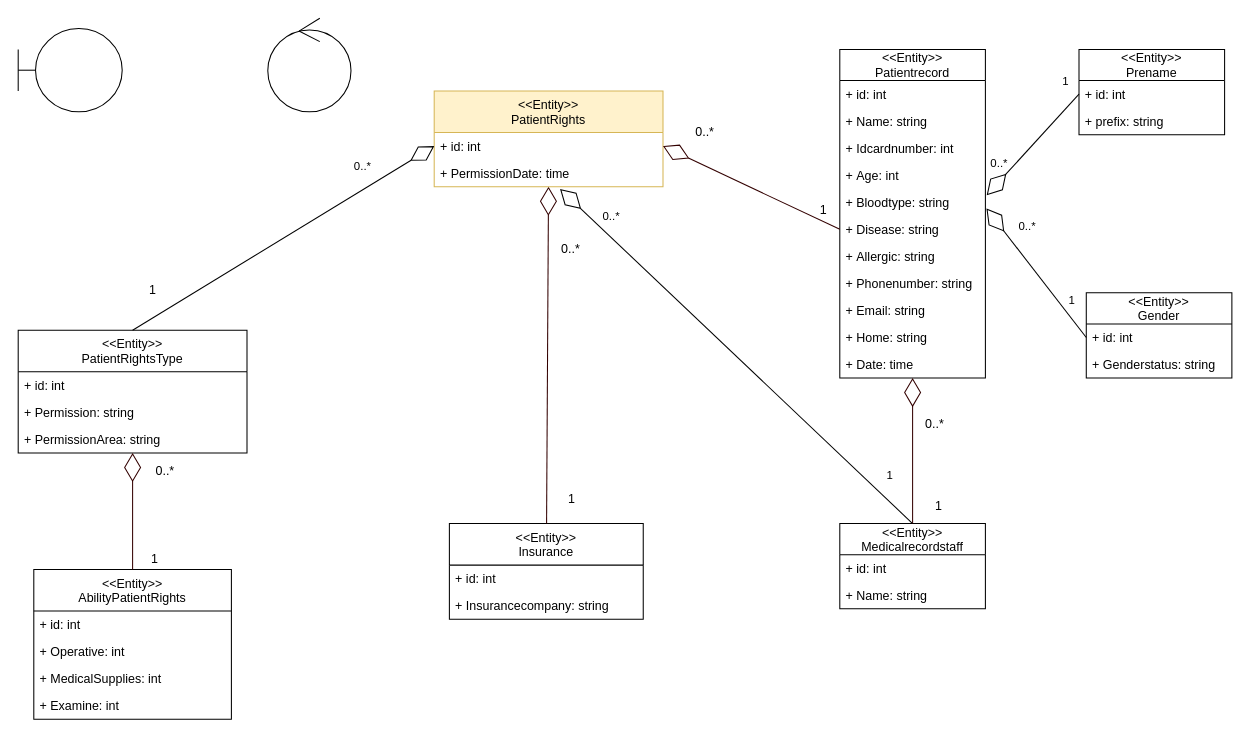
Image size: 1250x740. Some labels were removed from this diagram. The shapes that lost their labels are listed below. From the top down, each one's centre as x and y in pixels, then its label:
At pixel 69 70: "Patientrights UI".
At pixel 309 64: "Patientrights Controller".
